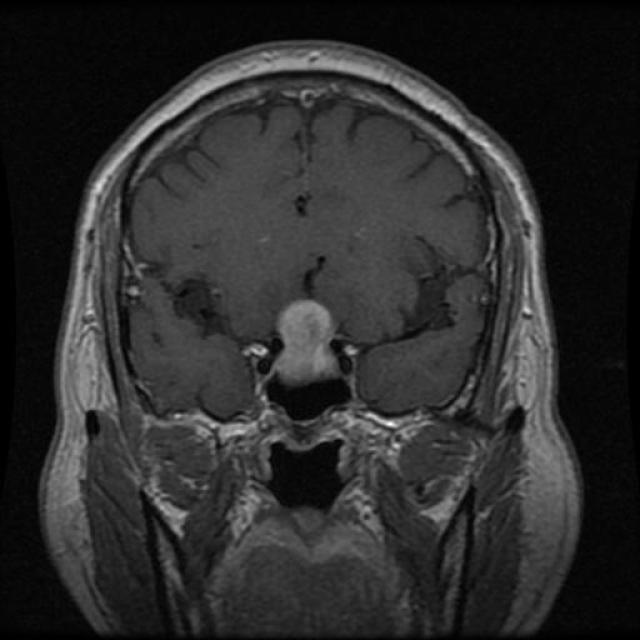pituitary: (244, 294, 360, 396)
